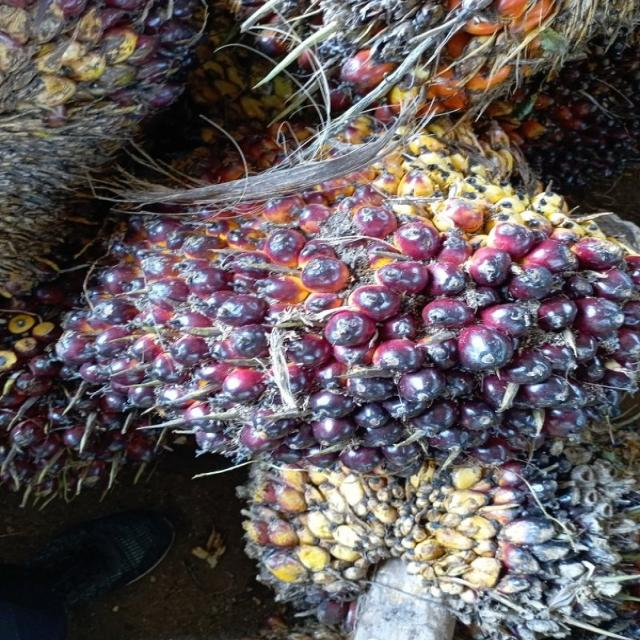fraksi 1: (40, 110, 640, 486)
